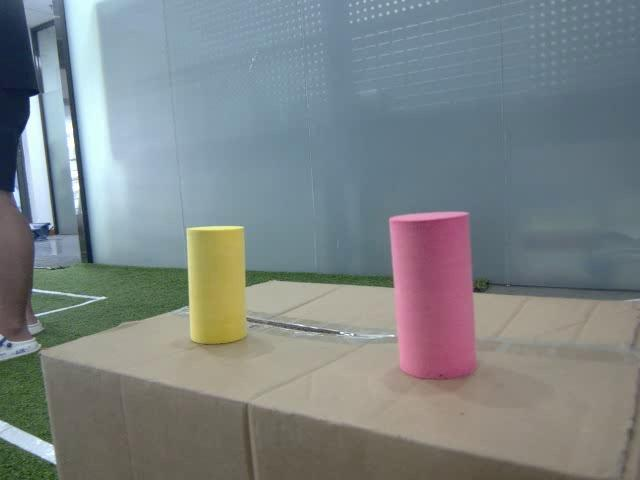red_cylinder: (385, 209, 484, 382)
yellow_cylinder: (185, 223, 250, 347)
